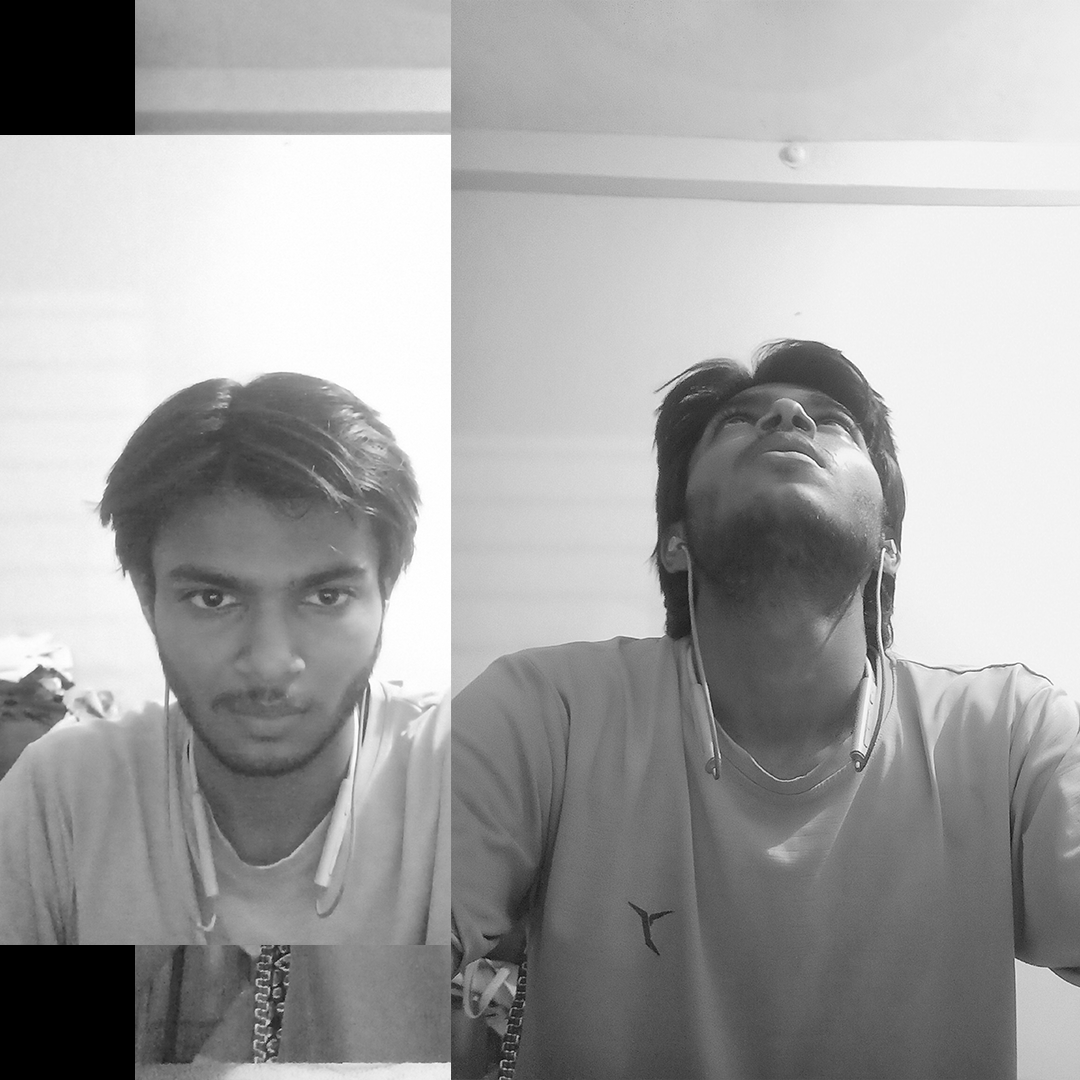Focused: (18, 316, 433, 935)
distracted: (549, 267, 1017, 958)
